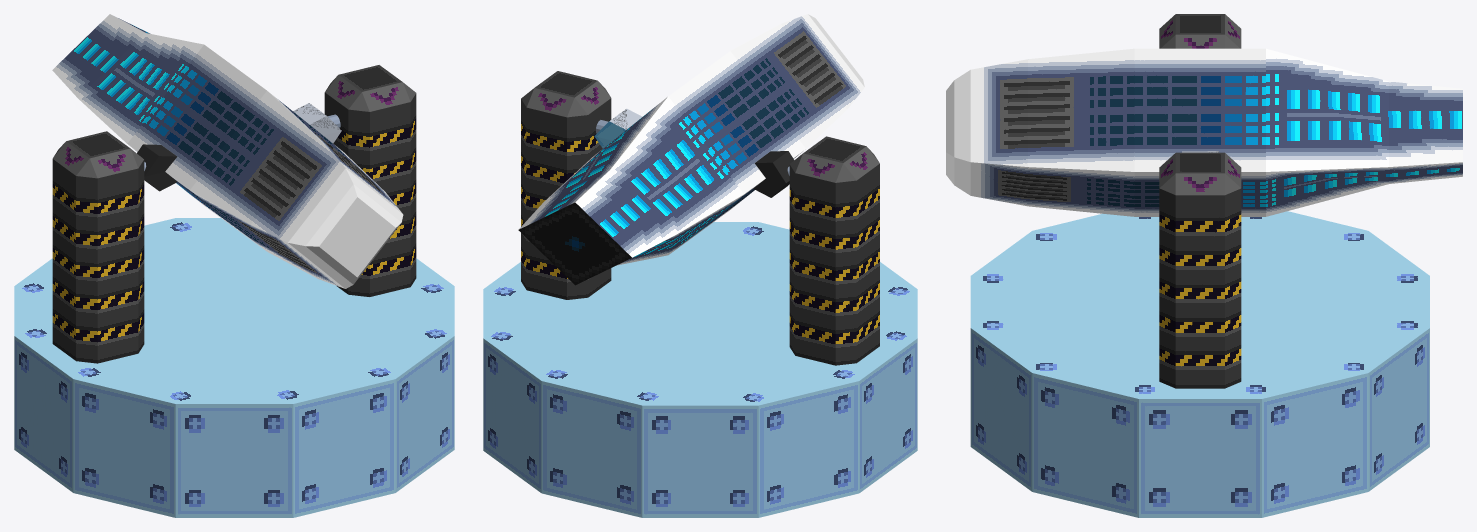
File: charge cannon - merged.gltf
3 views of the same model, side by side, from view 1: azimuth 30°, elevation 25°; view 2: azimuth 150°, elevation 25°; view 3: azimuth 270°, elevation 25° (orthographic). The views are drawn at different scales.
Visible parts, largest first — view 1: base; view 2: base; view 3: base.
Boxes of the visible parts, bbox=[...] form: base: bbox=[14, 14, 454, 517]; base: bbox=[483, 14, 917, 517]; base: bbox=[946, 14, 1462, 517].
Size of the model in its own units: 3.5 by 3.13 by 3.94.
4 materials, 4 textured.
